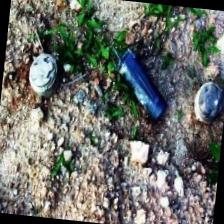M14: (25, 51, 62, 97), (191, 79, 224, 128)
